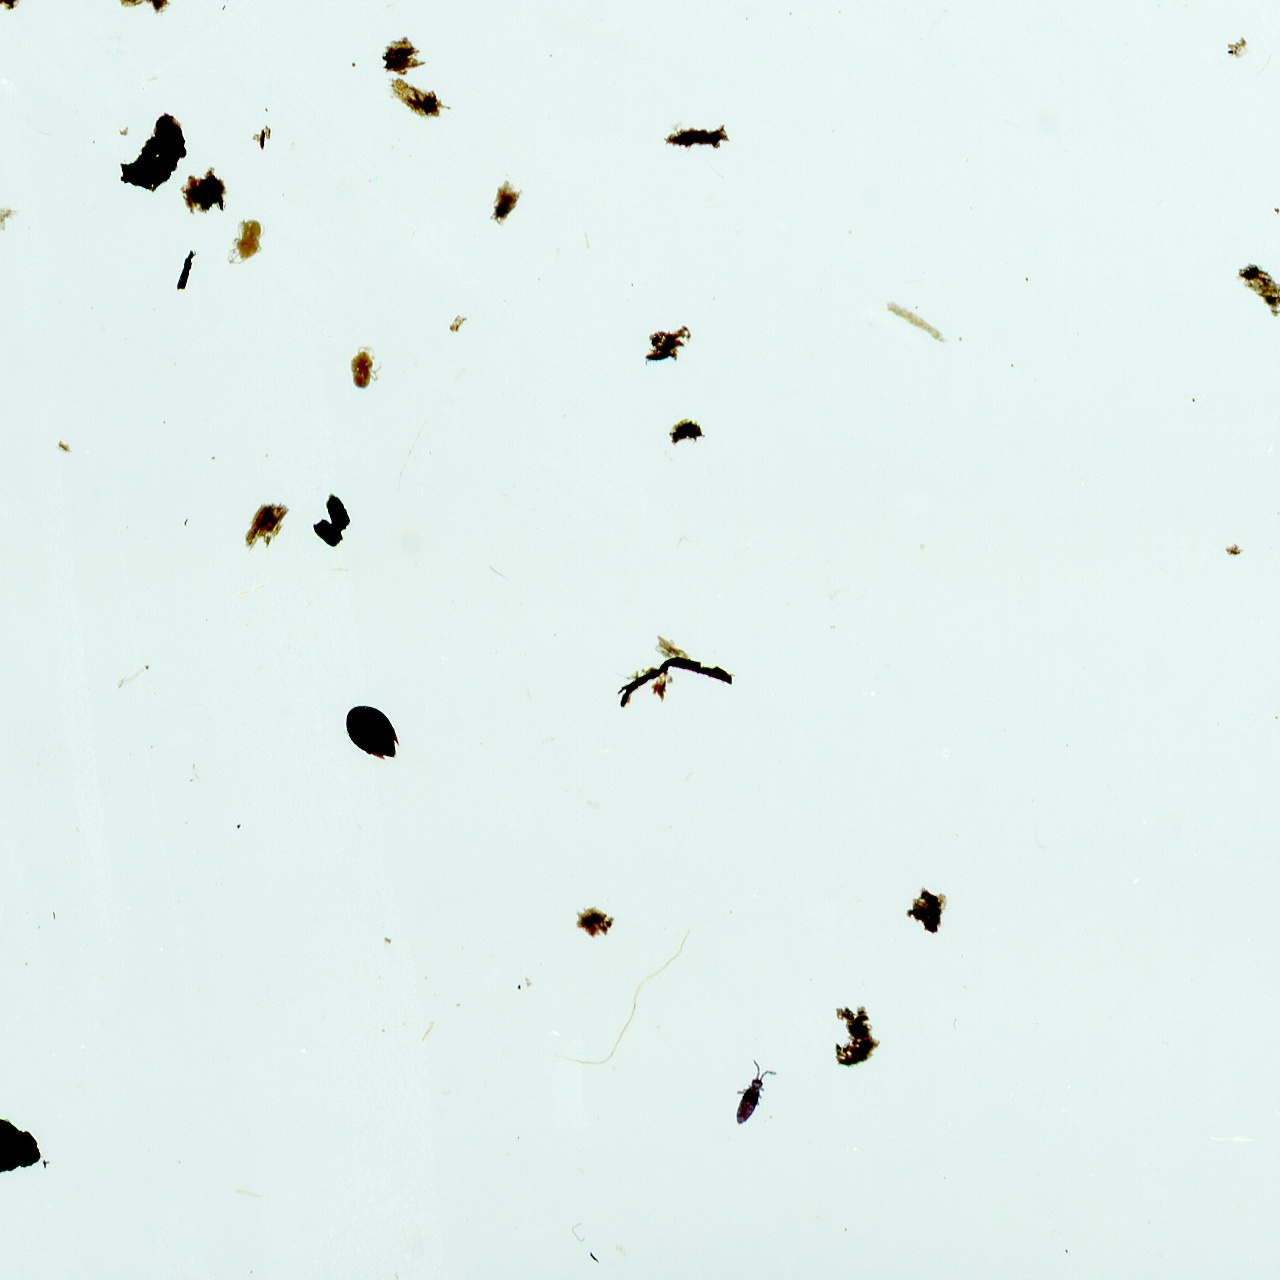arthropod: (724, 1054, 783, 1135), (342, 702, 401, 762), (225, 215, 268, 268), (347, 342, 384, 392)
